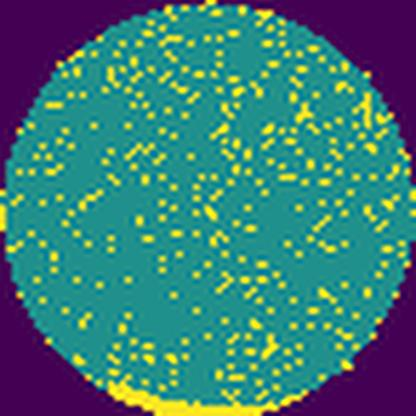Edge-Loc: (103, 375, 314, 416)
